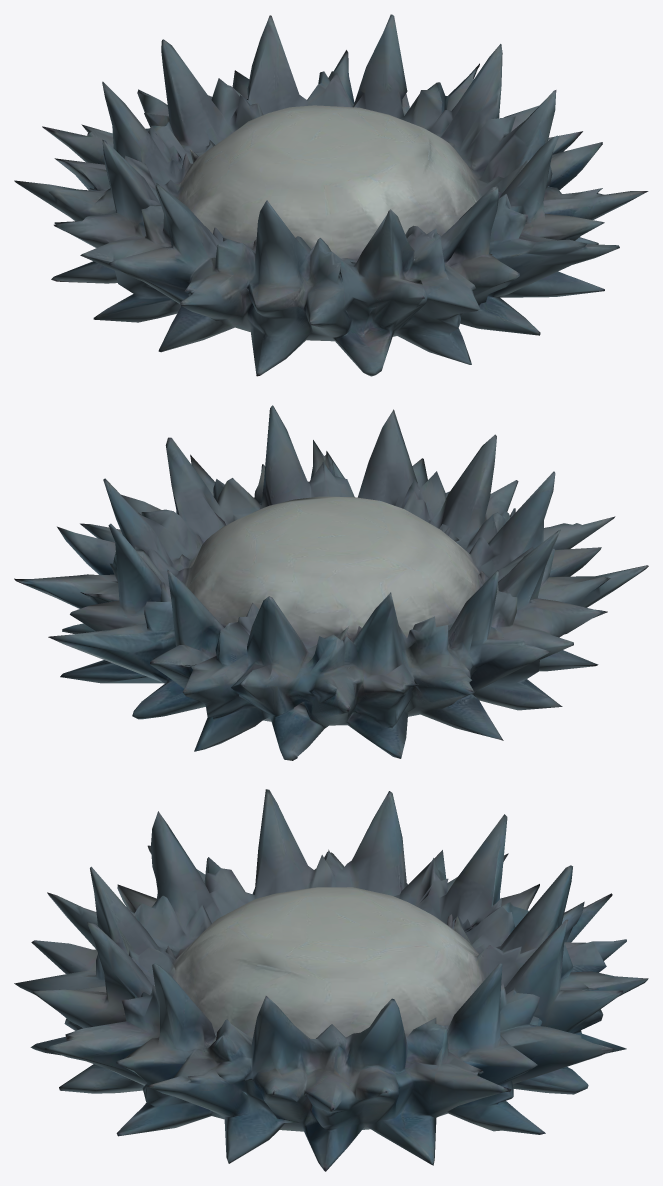
File: crystal-bloom.glb
3 views of the same model, one above another, from view 1: azimuth 30°, elevation 25°; view 2: azimuth 150°, elevation 25°; view 3: azimuth 270°, elevation 25° (orthographic). The views are drawn at different scales.
Visible parts, largest first — view 1: Mesh_0; view 2: Mesh_0; view 3: Mesh_0.
Part boxes in pixels (bbox=[...]): Mesh_0: bbox=[14, 14, 648, 376]; Mesh_0: bbox=[14, 405, 648, 760]; Mesh_0: bbox=[14, 789, 648, 1171].
Size of the model in its own units: 15.82 by 6 by 16.44.
1 material, 1 textured.
